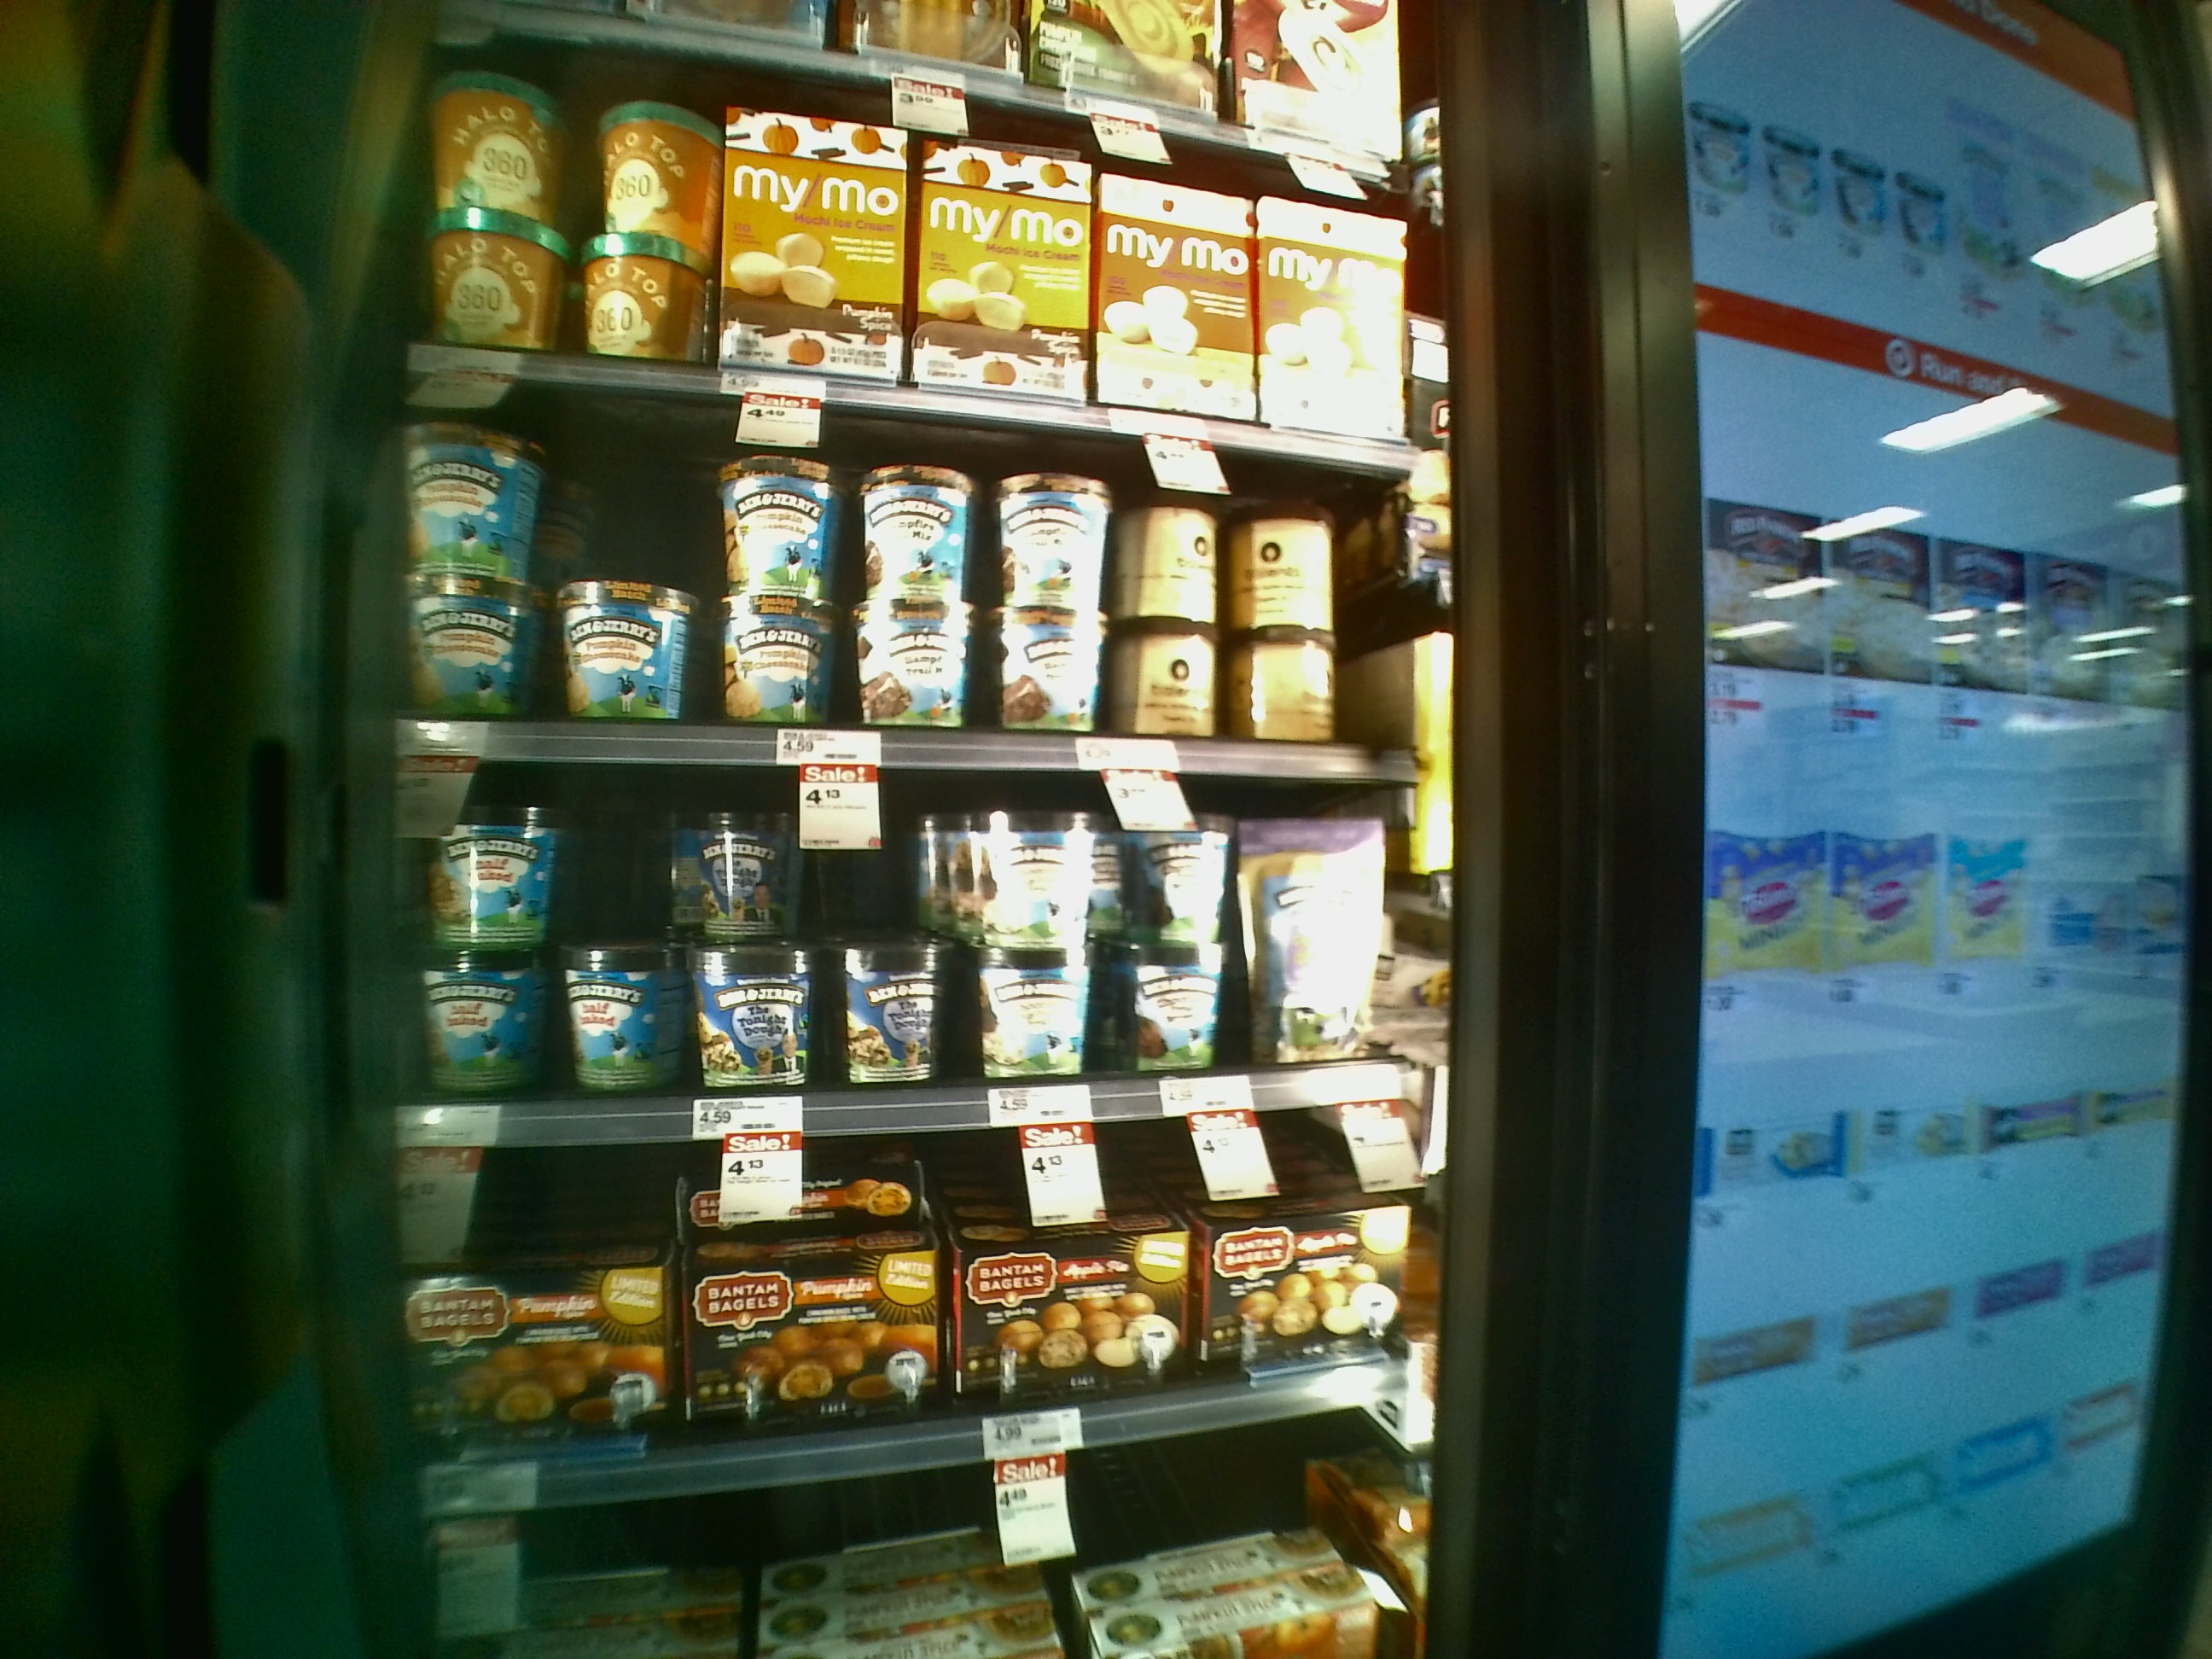shelf: (388, 373, 1437, 788), (354, 735, 1418, 1129), (350, 1127, 1439, 1476)
